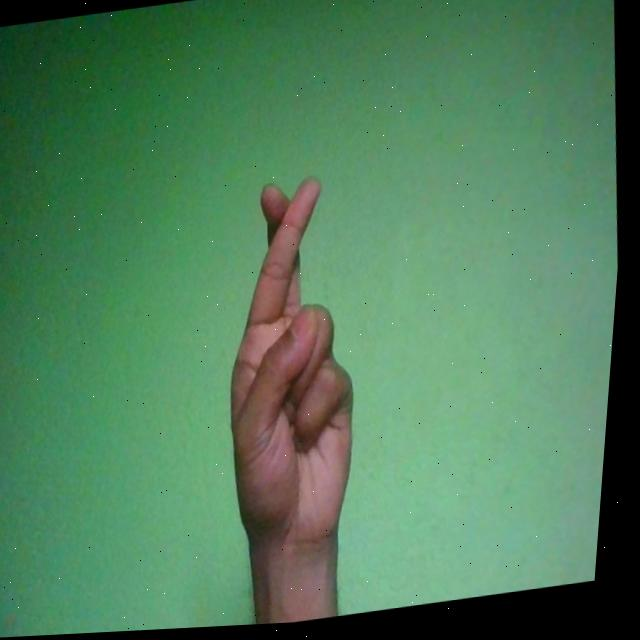Good Luck: (207, 172, 386, 571)
